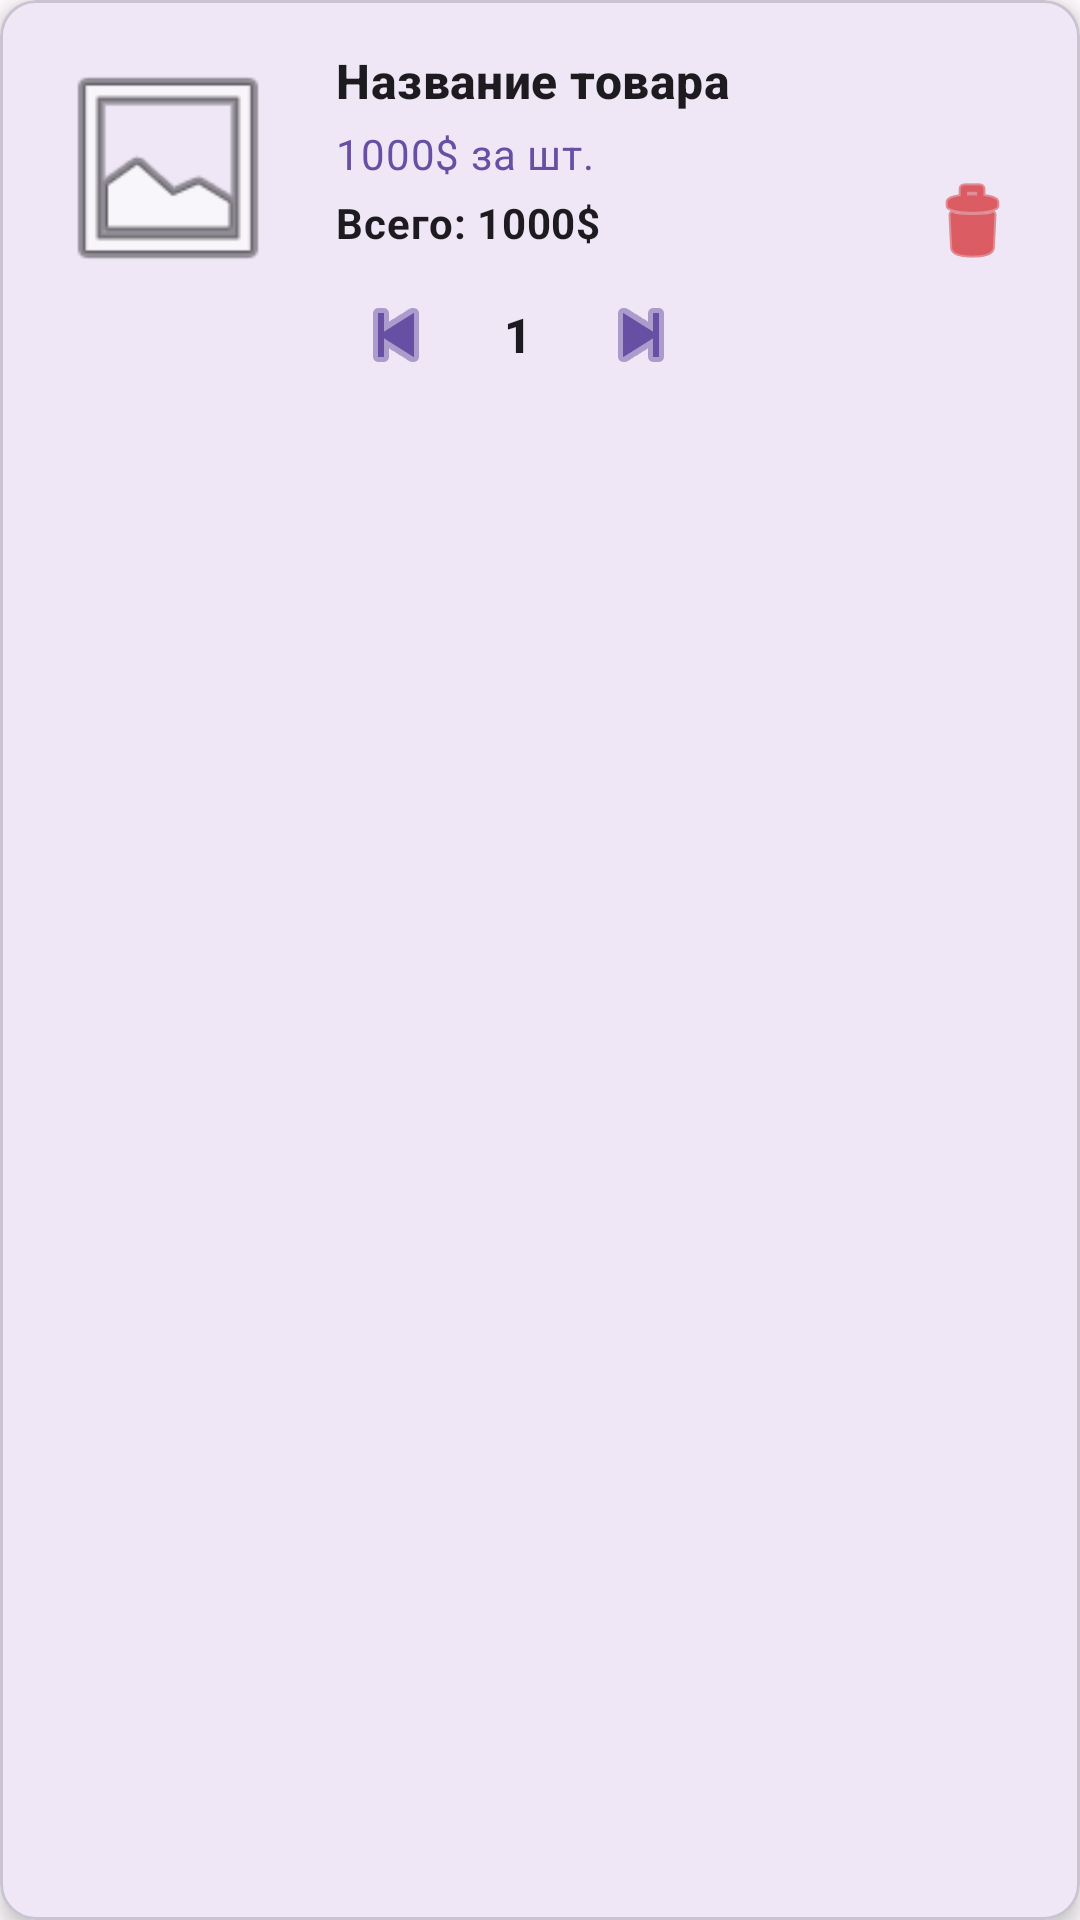

Icon bounding boxes for this 1080 x 1920 phone screenshot, format (x1, y1, x2, y2):
Изображение товара: (77, 77, 259, 259)
Удалить из корзины: (945, 183, 1000, 258)
